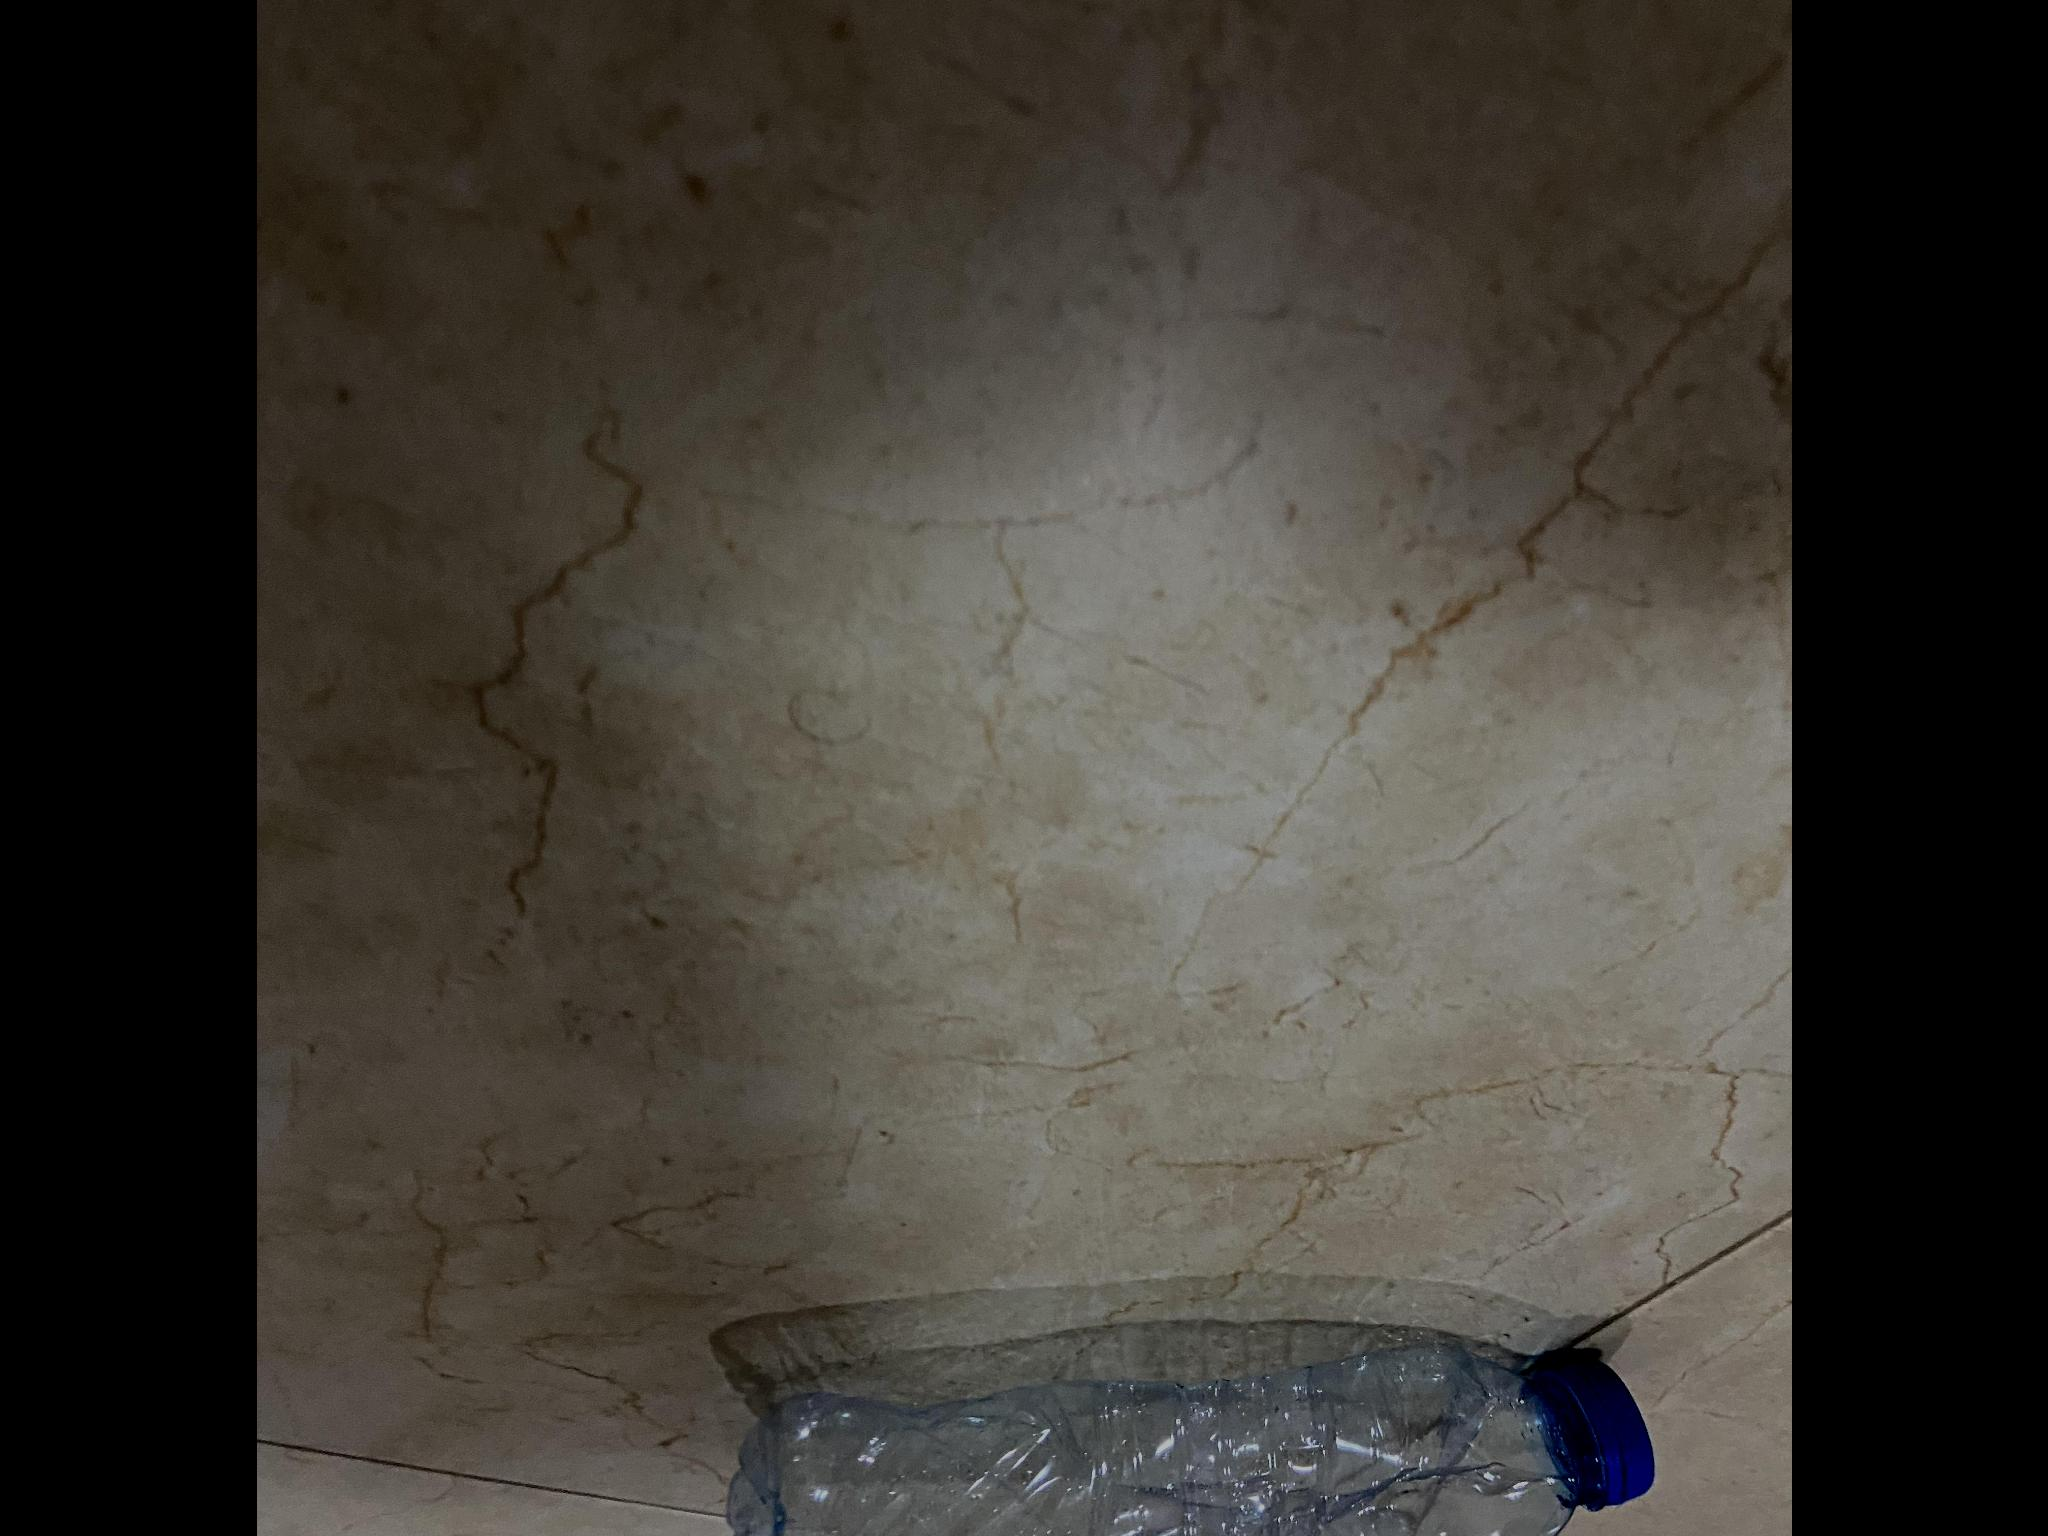bottle: (710, 1329, 1674, 1536)
